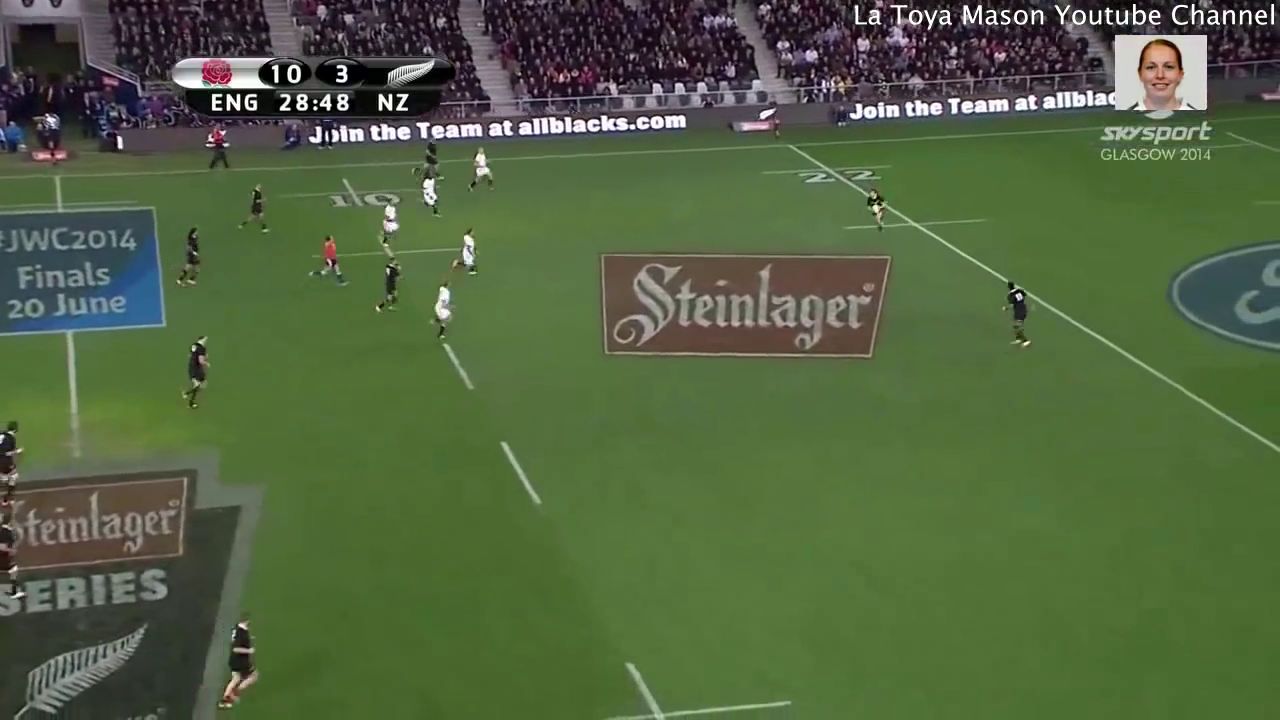10_metre: (571, 655, 799, 720), (308, 232, 473, 270), (276, 176, 450, 210)
ball: (869, 201, 883, 216)
player: (214, 609, 262, 715), (173, 333, 217, 415), (303, 232, 352, 291), (997, 277, 1035, 352), (1, 510, 29, 604), (425, 274, 460, 345), (1, 415, 25, 510), (234, 182, 273, 236), (372, 253, 405, 315), (176, 223, 205, 292), (450, 225, 484, 278), (465, 144, 497, 196), (411, 132, 448, 176), (859, 187, 892, 235), (375, 197, 401, 250), (418, 173, 445, 222)
